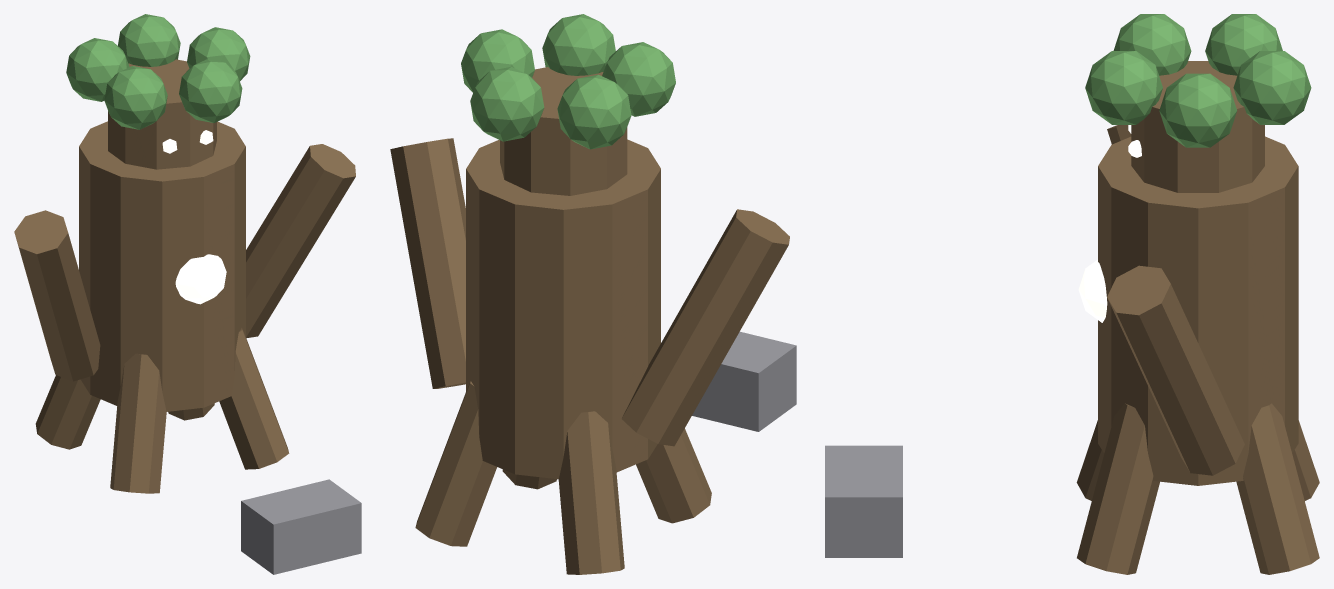
File: Dungeon_Bosque_Assets.fbx
The picture shows the model from 3 angles, left to right: view 1: azimuth 30°, elevation 25°; view 2: azimuth 150°, elevation 25°; view 3: azimuth 270°, elevation 25°; orthographic projection. The views are drawn at different scales.
Visible parts, largest first — view 1: Treant_Torso, Treant_Brazo_R, Cofre_Ancestral, Treant_Brazo_L, Treant_Raiz_Leg_2, Treant_Cabeza, Treant_Raiz_Leg_3, Treant_Raiz_Leg_1, Treant_Corona_3, Treant_Corona_4, Treant_Corona_2, Treant_Corona_1 (+2 smaller); view 2: Treant_Torso, Treant_Brazo_L, Treant_Brazo_R, Treant_Raiz_Leg_1, Treant_Cabeza, Cofre_Ancestral, Treant_Raiz_Leg_0, Treant_Raiz_Leg_2, Treant_Corona_1, Treant_Corona_2, Treant_Corona_3, Treant_Corona_4 (+2 smaller); view 3: Treant_Torso, Treant_Brazo_R, Cofre_Ancestral, Treant_Raiz_Leg_3, Treant_Raiz_Leg_0, Treant_Cabeza, Treant_Corona_0, Treant_Corona_1, Treant_Corona_4, Treant_Corona_3, Treant_Corona_2, Treant_Corazon_Core (+2 smaller).
Part boxes in pixels (box(x1,y1,x2,y2)): Treant_Torso: box(79, 121, 245, 411); Treant_Brazo_R: box(246, 144, 355, 338); Cofre_Ancestral: box(241, 479, 361, 574); Treant_Brazo_L: box(14, 210, 100, 381); Treant_Raiz_Leg_2: box(110, 353, 166, 493); Treant_Cabeza: box(108, 59, 216, 169); Treant_Raiz_Leg_3: box(219, 328, 289, 469); Treant_Raiz_Leg_1: box(35, 375, 100, 449); Treant_Corona_3: box(104, 66, 167, 129); Treant_Corona_4: box(179, 59, 242, 122); Treant_Corona_2: box(66, 38, 129, 101); Treant_Corona_1: box(118, 14, 180, 66); Treant_Torso: box(466, 139, 660, 479); Treant_Brazo_L: box(621, 209, 789, 446); Treant_Brazo_R: box(390, 138, 465, 388); Treant_Raiz_Leg_1: box(558, 411, 624, 574); Treant_Cabeza: box(500, 67, 627, 195); Cofre_Ancestral: box(692, 331, 796, 431); Treant_Raiz_Leg_0: box(415, 381, 496, 546); Treant_Raiz_Leg_2: box(636, 428, 711, 523); Treant_Corona_1: box(470, 67, 544, 141); Treant_Corona_2: box(557, 74, 631, 149); Treant_Corona_3: box(602, 42, 675, 116); Treant_Corona_4: box(542, 14, 615, 75); Treant_Torso: box(1098, 136, 1298, 485); Treant_Brazo_R: box(1107, 265, 1244, 475); Cofre_Ancestral: box(825, 445, 902, 557); Treant_Raiz_Leg_3: box(1077, 403, 1159, 574); Treant_Raiz_Leg_0: box(1236, 403, 1319, 574); Treant_Cabeza: box(1131, 61, 1264, 192); Treant_Corona_0: box(1159, 73, 1237, 147); Treant_Corona_1: box(1233, 51, 1311, 124); Treant_Corona_4: box(1085, 51, 1162, 124); Treant_Corona_3: box(1113, 14, 1191, 75); Treant_Corona_2: box(1205, 14, 1282, 75); Treant_Corazon_Core: box(1078, 259, 1107, 322).
Bounding box in the file's own units: 838 × 980 × 888.
